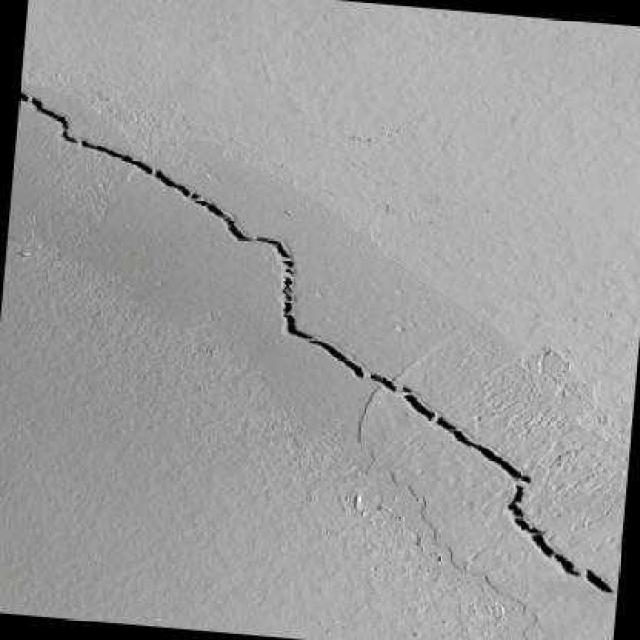D00: (18, 92, 152, 175), (507, 485, 580, 577), (435, 418, 530, 484), (193, 200, 251, 241), (305, 340, 362, 380), (281, 302, 313, 339), (152, 171, 189, 197), (401, 395, 433, 421), (256, 237, 289, 258), (585, 569, 611, 594), (369, 375, 395, 393), (281, 276, 291, 300), (279, 260, 292, 268), (400, 386, 411, 393), (284, 269, 292, 276), (189, 194, 198, 199)
